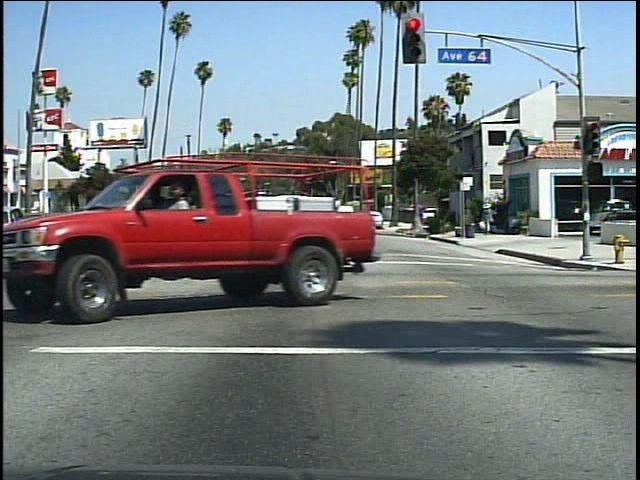person: (167, 176, 209, 304), (478, 199, 501, 237)
